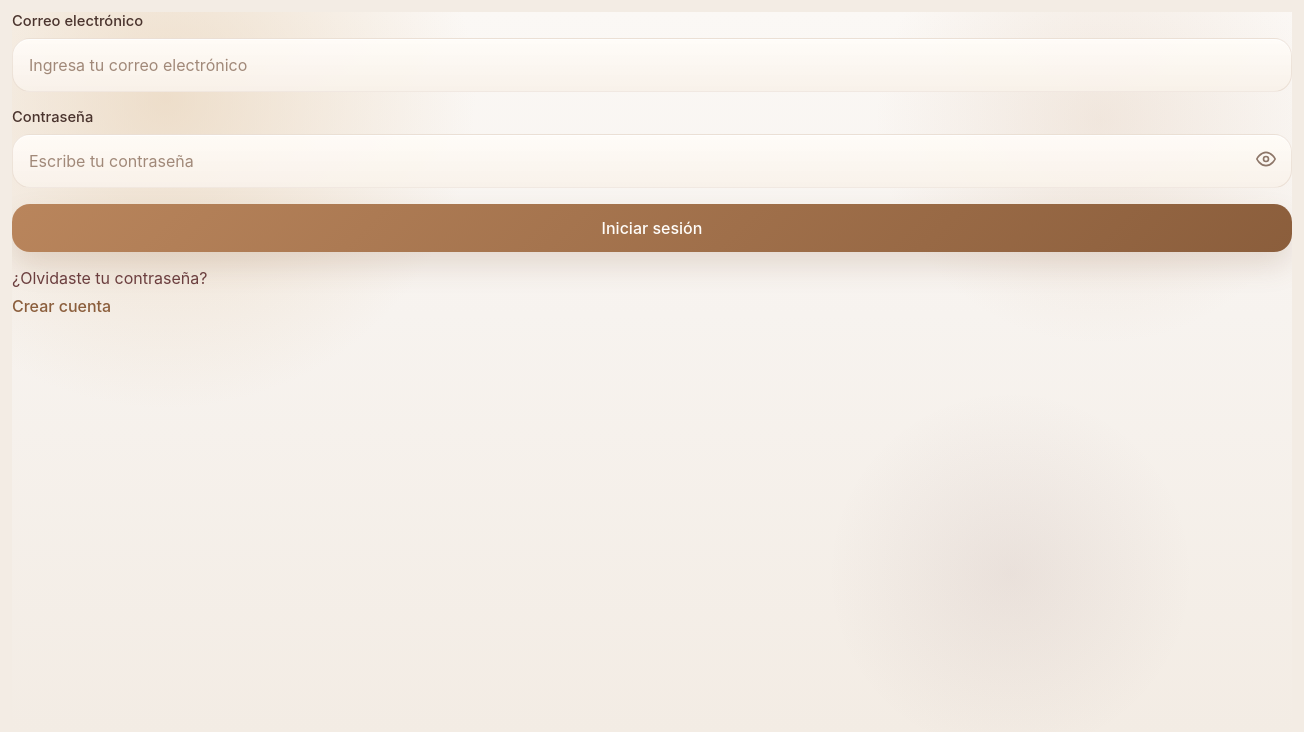
Test: LoginForm › shows an invalid email under the email field and clears it when the user corrects it
Type "a@gmailcom" into the field with placeholder "Ingresa tu correo electrónico".
click(652, 65); type("a@gmailcom")  # box [12, 38, 1292, 92]
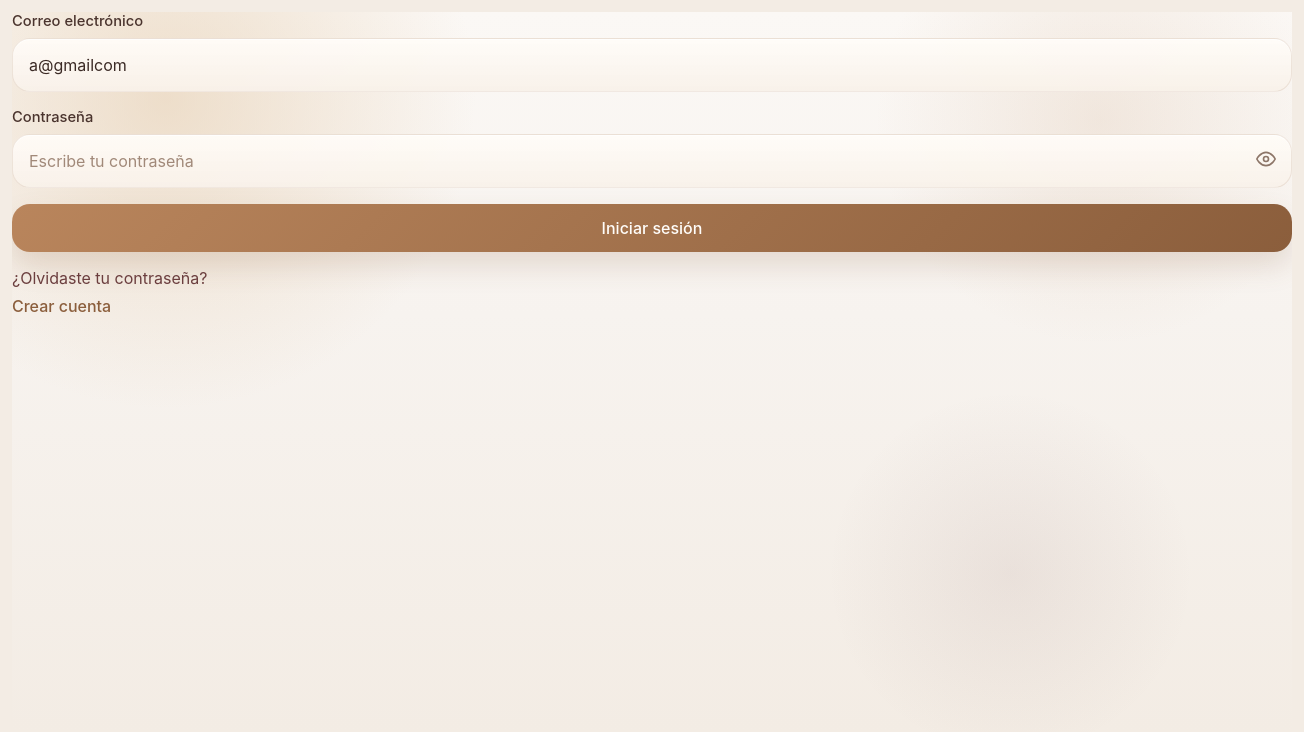
Type "Password123!" into the password field with placeholder "Escribe tu contraseña".
click(652, 161); type("Password123!")  # box [12, 134, 1292, 188]
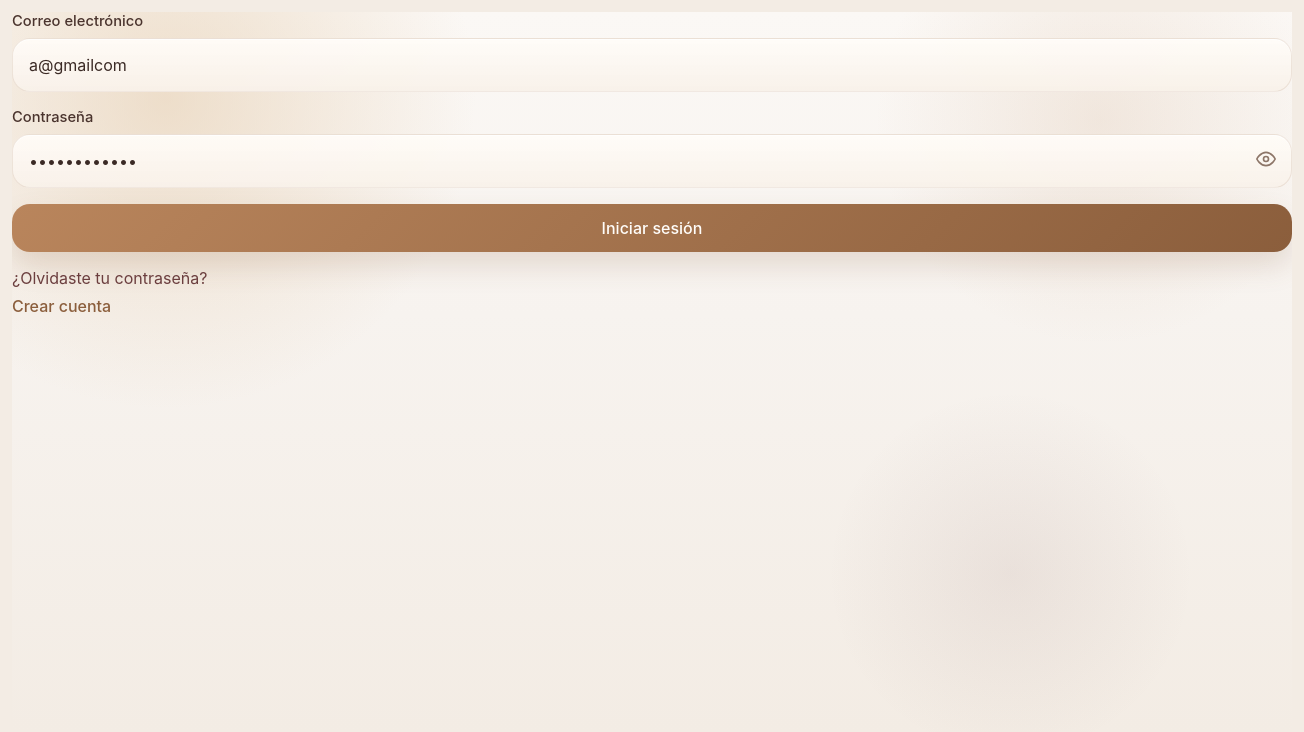
Click the button "Iniciar sesión".
click(652, 228)  # box [12, 204, 1292, 252]
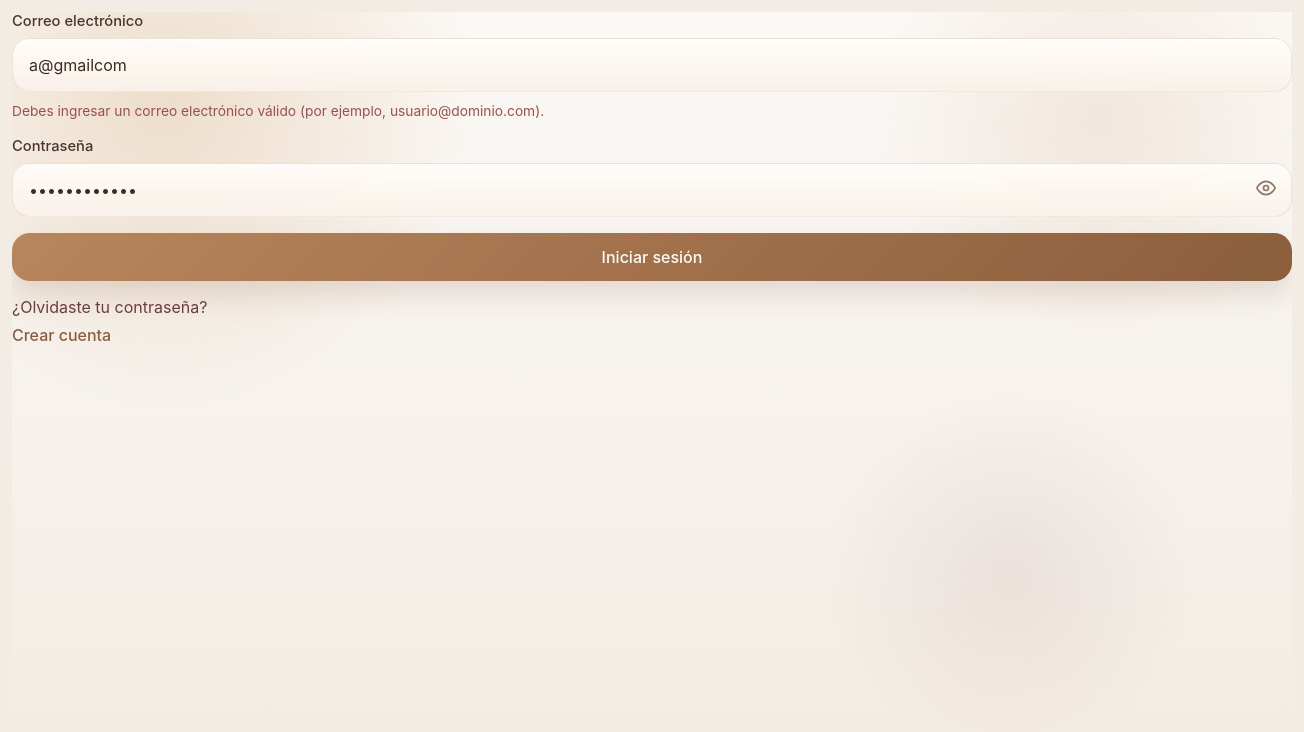
Check: the message reads "Debes ingresar un correo electrónico válido (por ejemplo, usuario@dominio.com).", box [12, 103, 544, 119]
Replace the text in the field with placeholder "Ingresa tu correo electrónico" with "a@gmail.com" at (652, 65), box [12, 38, 1292, 92]
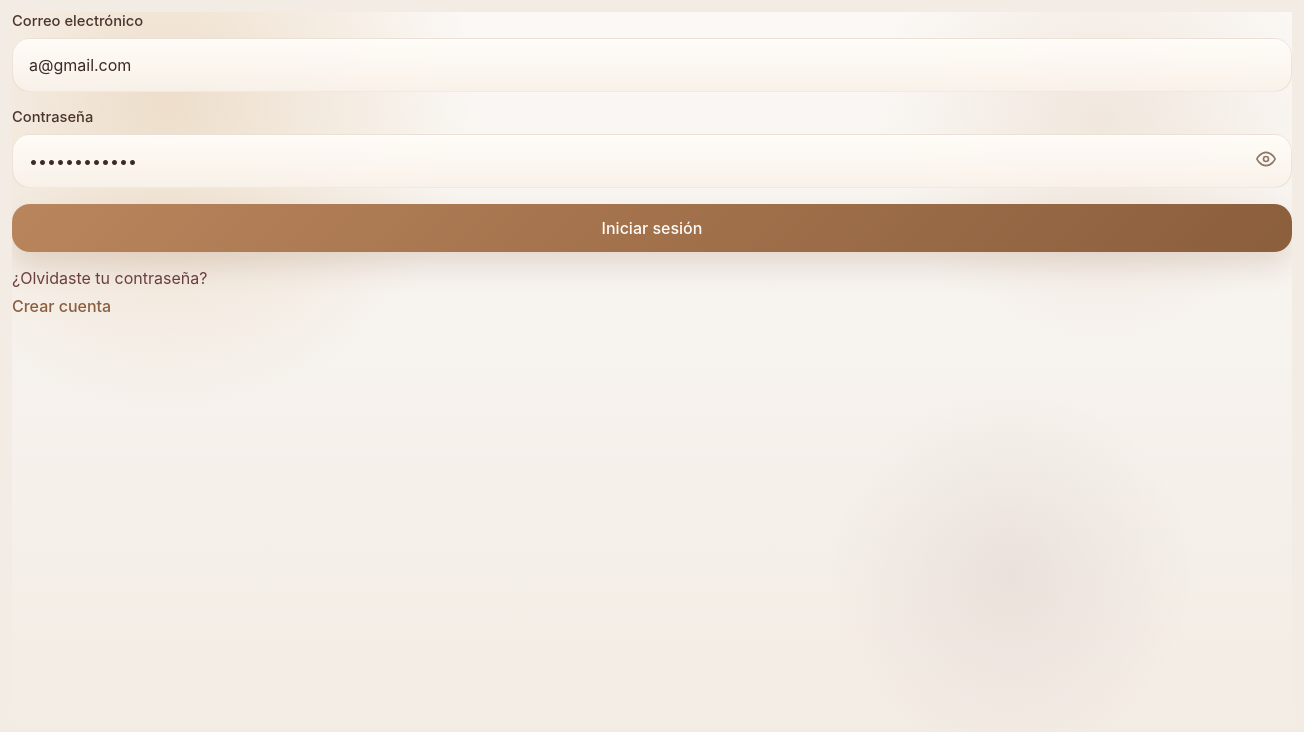
Check: the message "Debes ingresar un correo electrónico válido (por ejemplo, usuario@dominio.com)." is gone
